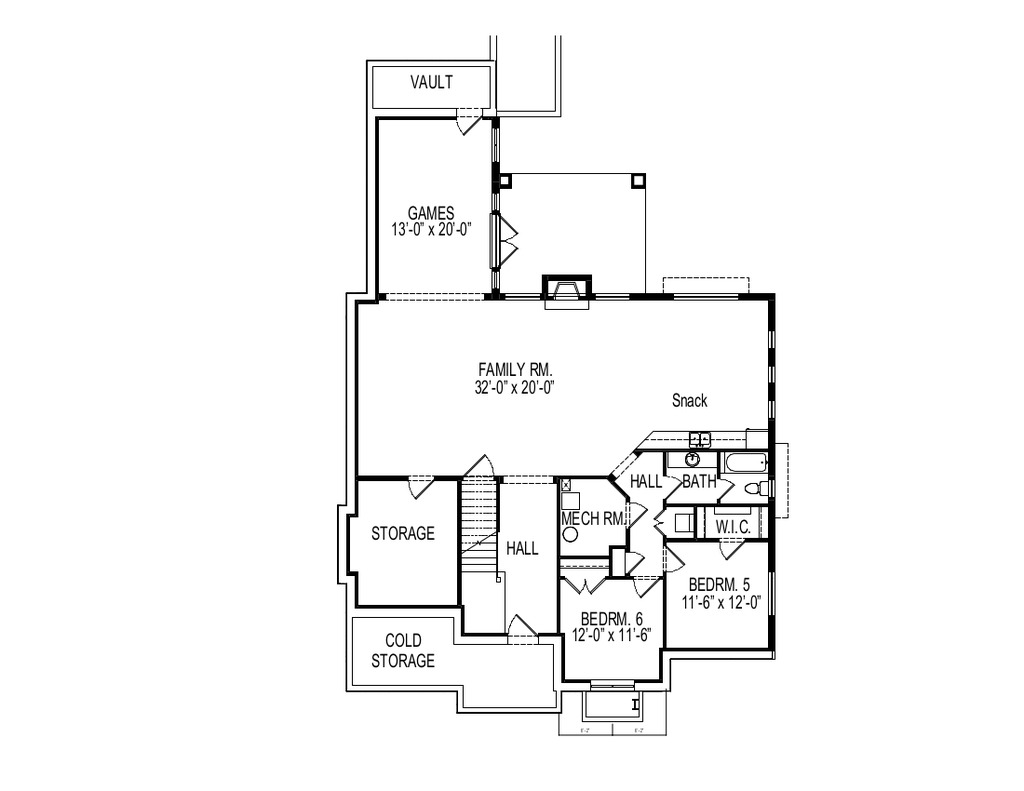door: (490, 209, 526, 276), (395, 472, 433, 504), (456, 453, 499, 480), (506, 607, 539, 642), (449, 109, 484, 142), (565, 577, 609, 597), (614, 548, 649, 572), (654, 503, 672, 544), (632, 576, 664, 599), (716, 538, 743, 563), (661, 475, 684, 499), (625, 502, 646, 528), (664, 546, 684, 570), (715, 477, 732, 499)
large_sink: (742, 480, 781, 504)
small_sink: (677, 447, 718, 469)
stairs: (454, 478, 505, 601)
tub: (723, 454, 777, 474)
twin_sink: (676, 427, 717, 447)
window: (757, 325, 781, 426), (756, 570, 778, 620)
